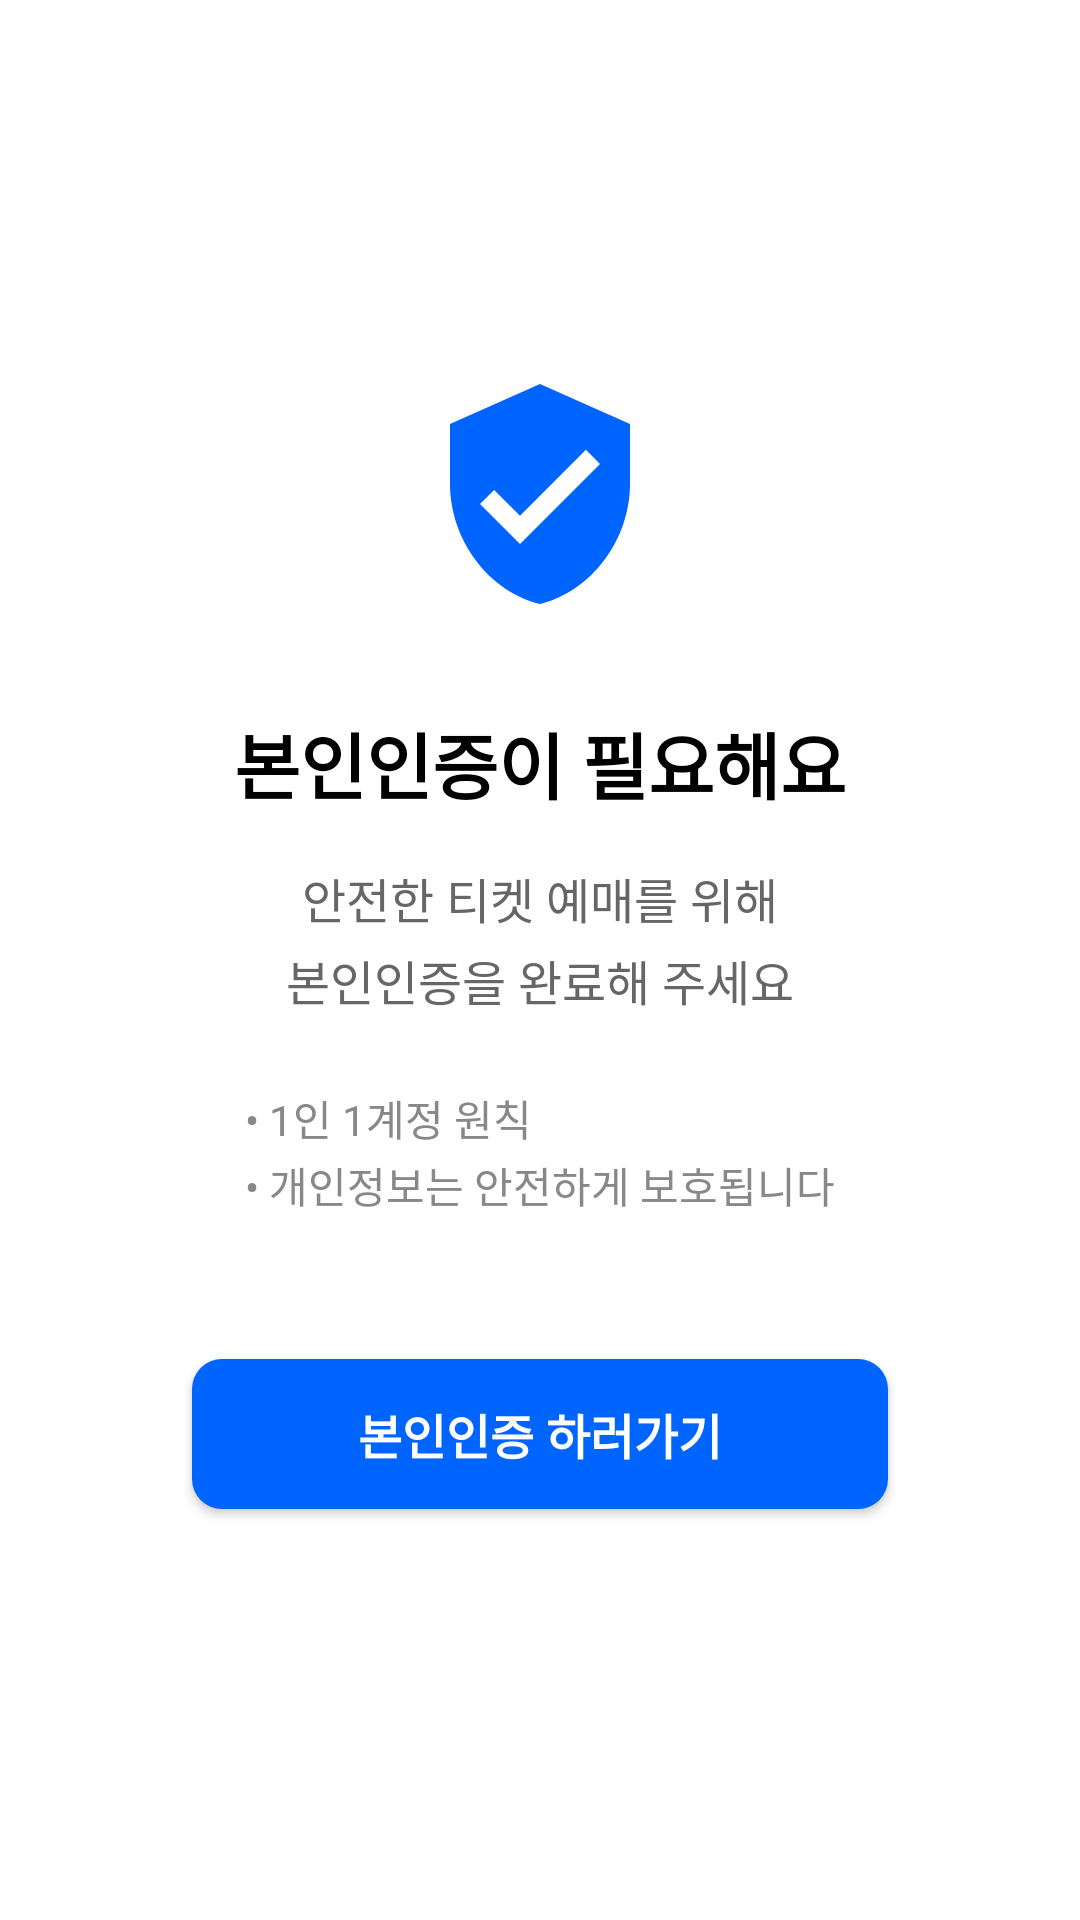

Point at icon controls on the screen. Image size 1080 × 1920, points as point (x, y).
verification: point (540, 494)
